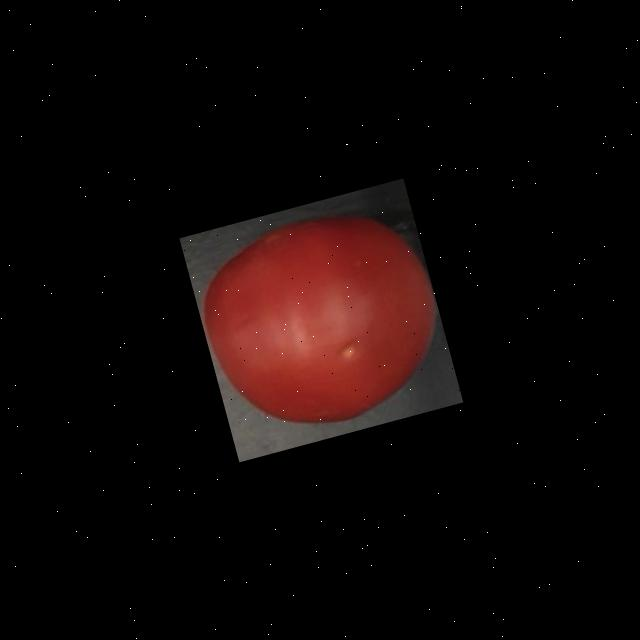tomato: (181, 188, 459, 452)
